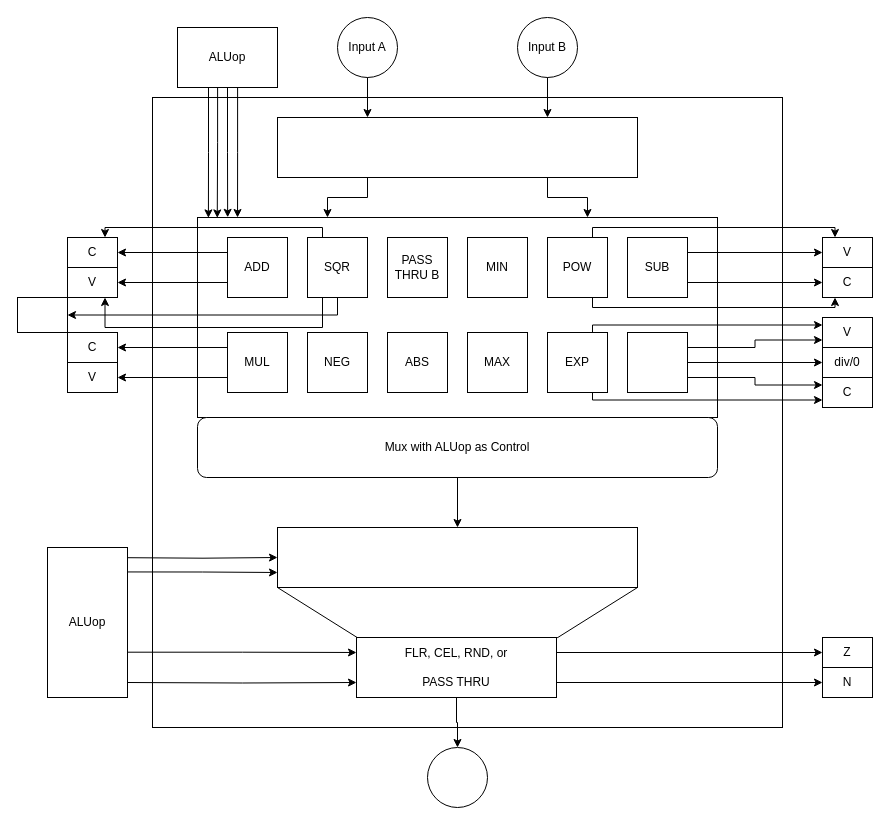
Image size: 890x825. Some labels were removed from this diagram. The shapes that lost their labels are listed below. From the top down, each one's box as (x1, y1, x2, y2) in pixels, then its label:
(276, 116, 638, 178): Pre-Normalize
(16, 296, 68, 332): complex
(626, 332, 688, 392): DIV
(276, 526, 638, 588): Post-Normalize
(426, 746, 488, 808): Result
